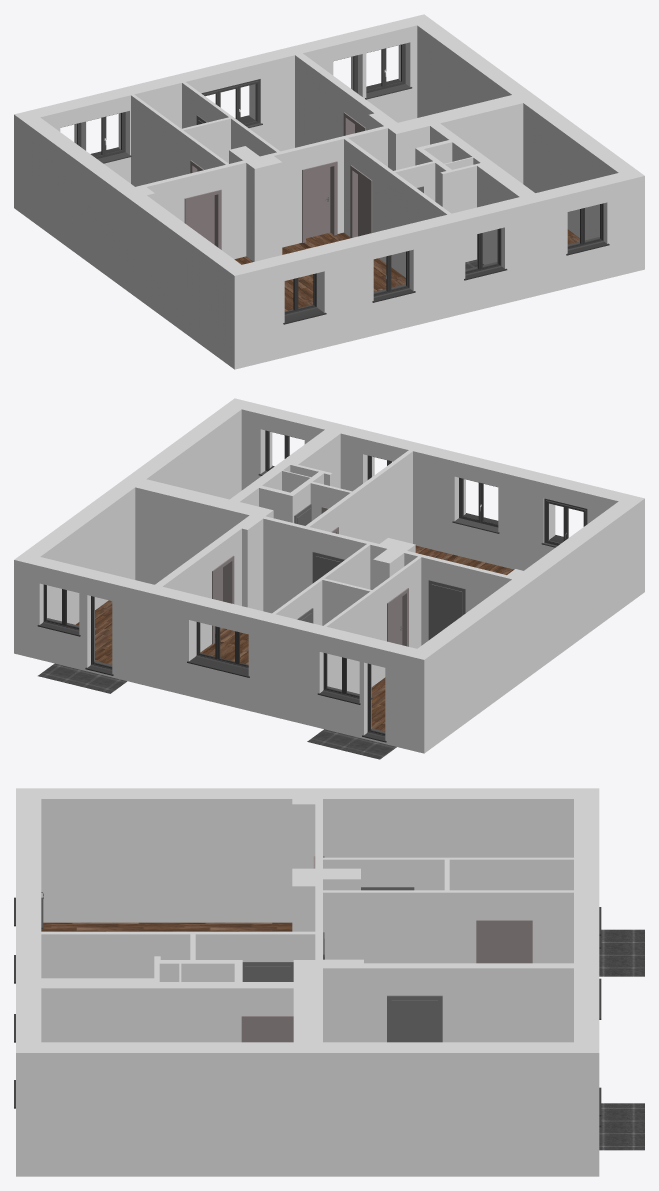
The model's file is 1np-simple.glb.
3 views of the same model, one above another, from view 1: azimuth 30°, elevation 25°; view 2: azimuth 150°, elevation 25°; view 3: azimuth 270°, elevation 25° (orthographic). The views are drawn at different scales.
Visible parts, largest first — view 1: wall.001_29, surface.001_81, Panel.001_6, Panel_3, Door.001_7, Door.003_13, Door_4, Panel.003_12, Window.004_57; view 2: wall.001_29, surface.001_81, Panel_3, Window.002_47, Door.002_10, Door.007_25, Panel.007_24, Window.006_67; view 3: wall.001_29, surface.001_81, Panel.002_9, Panel.008_27, Panel.006_21, Door.008_28, Door.002_10, Panel.003_12.
Boxes of the visible parts, bbox=[...] form: wall.001_29: bbox=[14, 14, 644, 369]; surface.001_81: bbox=[234, 229, 579, 311]; Panel.001_6: bbox=[306, 167, 330, 238]; Panel_3: bbox=[188, 195, 214, 244]; Door.001_7: bbox=[302, 161, 337, 242]; Door.003_13: bbox=[350, 165, 372, 238]; Door_4: bbox=[184, 189, 221, 249]; Panel.003_12: bbox=[358, 174, 369, 236]; Window.004_57: bbox=[365, 43, 412, 99]; wall.001_29: bbox=[14, 398, 644, 753]; surface.001_81: bbox=[38, 545, 513, 759]; Panel_3: bbox=[431, 584, 462, 637]; Window.002_47: bbox=[187, 622, 249, 677]; Door.002_10: bbox=[212, 555, 234, 643]; Door.007_25: bbox=[387, 588, 408, 646]; Panel.007_24: bbox=[390, 597, 402, 644]; Window.006_67: bbox=[452, 477, 499, 533]; wall.001_29: bbox=[16, 788, 599, 1176]; surface.001_81: bbox=[41, 922, 644, 1150]; Panel.002_9: bbox=[391, 1000, 437, 1042]; Panel.008_27: bbox=[481, 925, 527, 963]; Panel.006_21: bbox=[246, 1021, 289, 1042]; Door.008_28: bbox=[476, 920, 532, 963]; Door.002_10: bbox=[387, 995, 442, 1042]; Panel.003_12: bbox=[244, 966, 290, 981].
Size of what is drawn, in the model's own units: 12.37 by 2.7 by 12.47.
13 materials, 2 textured.
